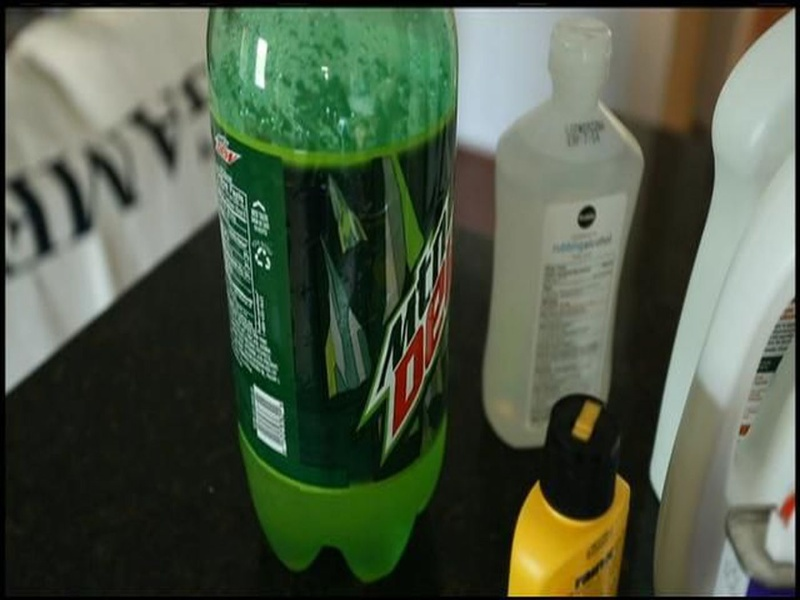Plastic bottle: (164, 8, 478, 584)
